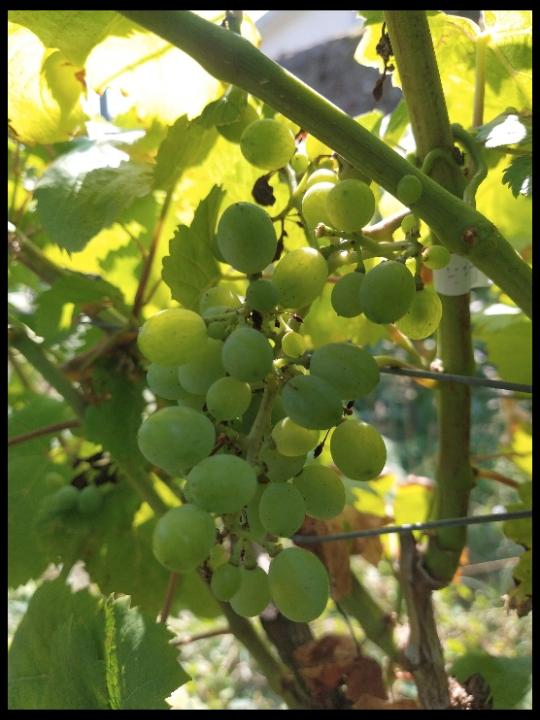grape: (134, 100, 445, 627)
